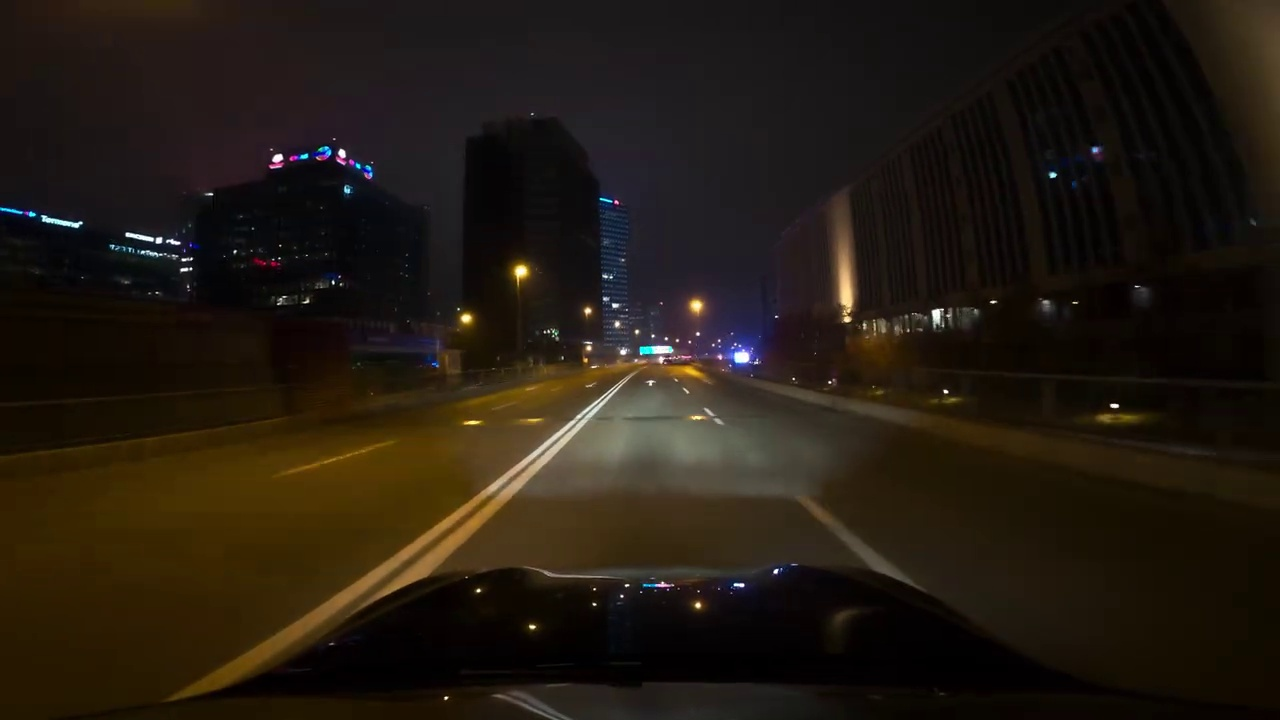acesa: (510, 260, 533, 285), (686, 296, 707, 318)
